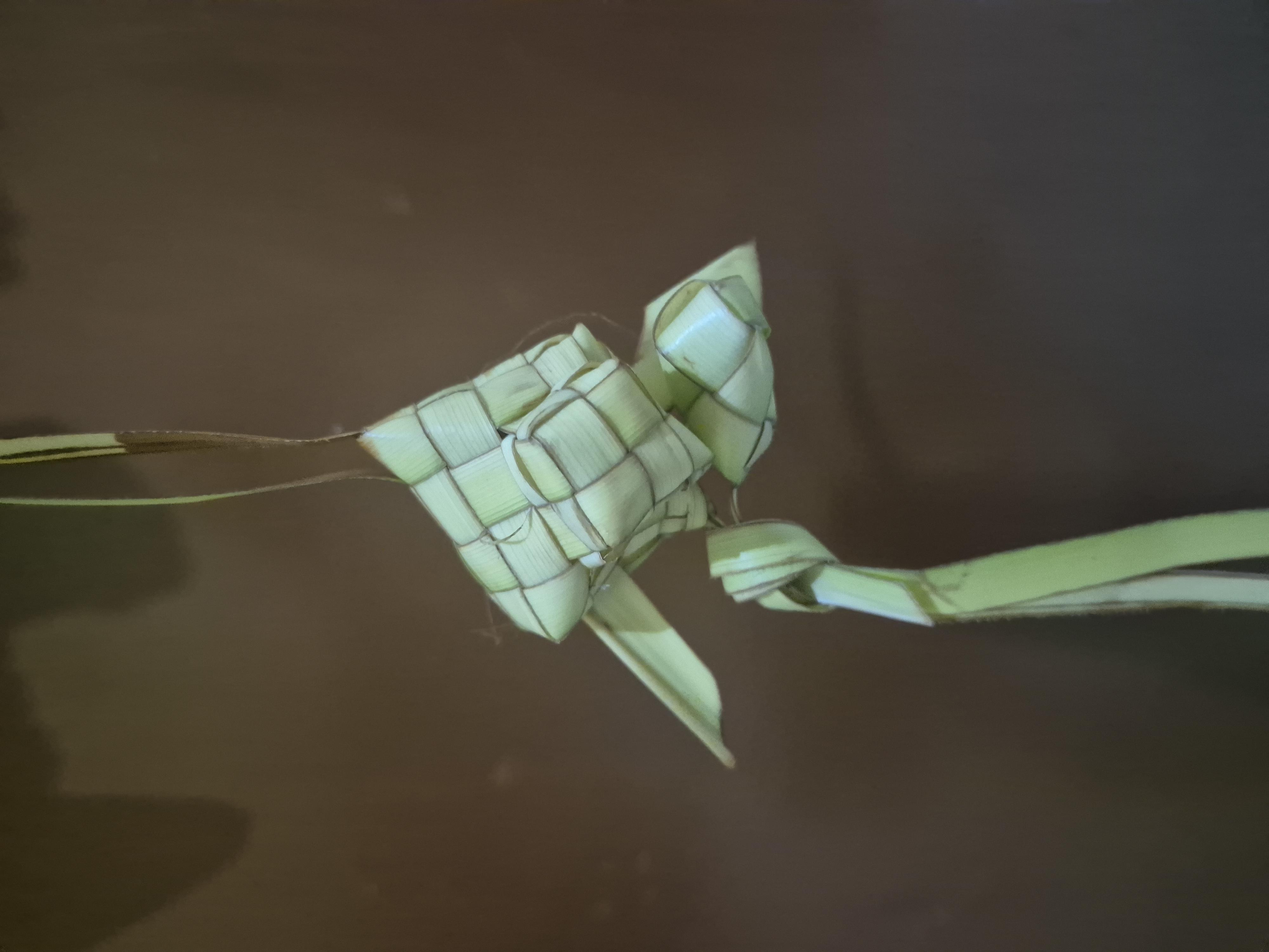Tipat Gong: (414, 270, 835, 534)
